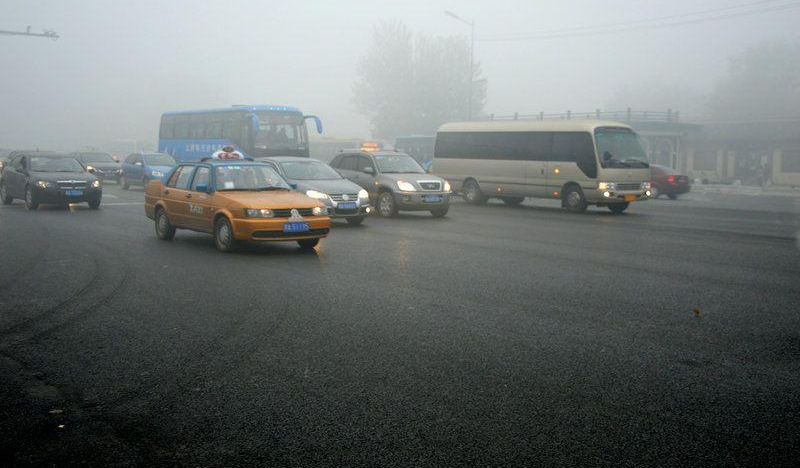bus: (431, 118, 652, 214), (156, 103, 326, 187), (390, 132, 479, 188)
car: (145, 146, 331, 252), (247, 154, 371, 227), (327, 149, 454, 220), (1, 152, 102, 211), (1, 146, 67, 193), (623, 161, 693, 198), (120, 149, 183, 190), (72, 148, 126, 186)
